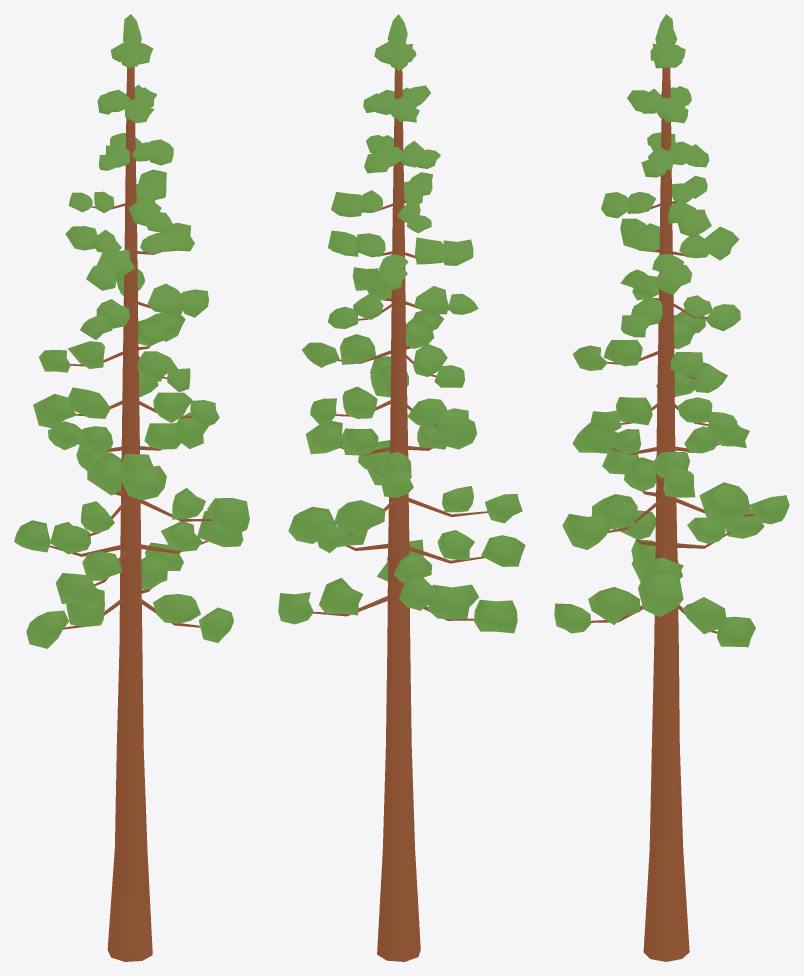
Rendered from Blender_WesternLarch_1.glb.
3 views of the same model, side by side, from view 1: azimuth 30°, elevation 25°; view 2: azimuth 150°, elevation 25°; view 3: azimuth 270°, elevation 25° (orthographic).
Parts seen in each view (by area): view 1: Blender_WesternLarch_1; view 2: Blender_WesternLarch_1; view 3: Blender_WesternLarch_1.
Boxes of the visible parts, left/top/right/bottom form: Blender_WesternLarch_1: left=14, top=14, right=249, bottom=961; Blender_WesternLarch_1: left=278, top=14, right=525, bottom=961; Blender_WesternLarch_1: left=554, top=14, right=789, bottom=961.
Bounding box in the file's own units: 8.33 × 33.82 × 7.69.
